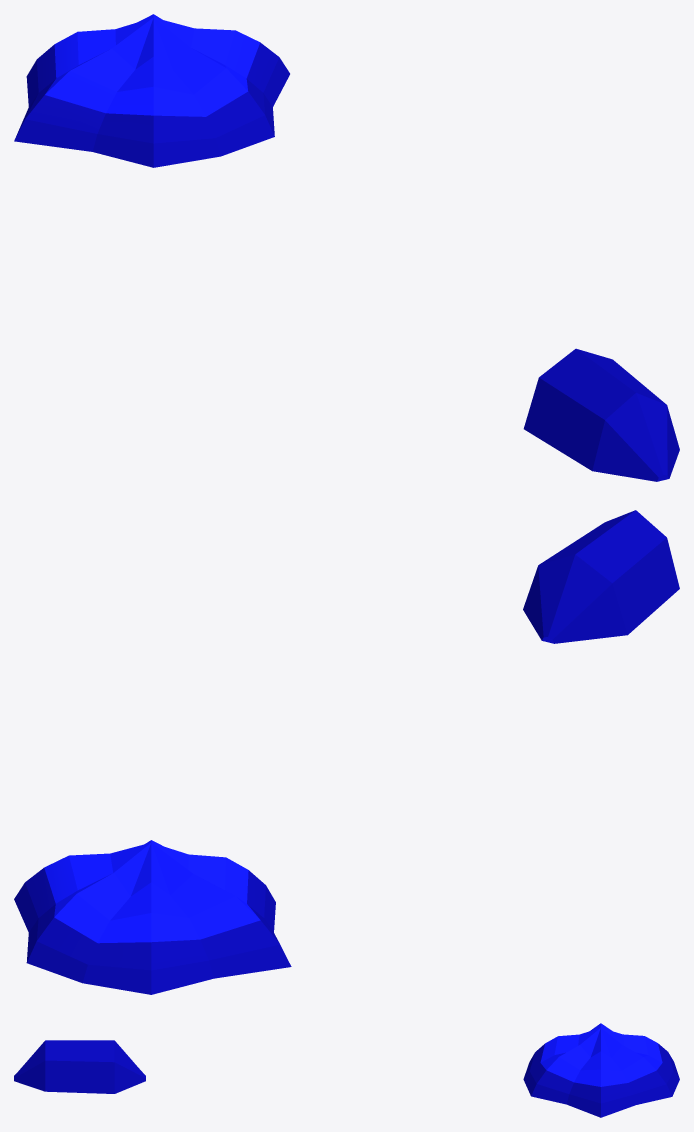
File: shot_ice_154.glb
The picture shows the model from 3 angles, top to bottom: view 1: azimuth 30°, elevation 25°; view 2: azimuth 150°, elevation 25°; view 3: azimuth 270°, elevation 25°; orthographic projection. The views are drawn at different scales.
Visible parts, largest first — view 1: shot_ice_154_cap, shot_ice_154_trail; view 2: shot_ice_154_cap, shot_ice_154_trail; view 3: shot_ice_154_cap, shot_ice_154_trail.
Part boxes in pixels (box(x1,y1,x2,y2)): shot_ice_154_cap: box(14, 14, 289, 167); shot_ice_154_trail: box(523, 348, 679, 481); shot_ice_154_cap: box(14, 840, 291, 994); shot_ice_154_trail: box(523, 510, 679, 643); shot_ice_154_cap: box(523, 1023, 679, 1117); shot_ice_154_trail: box(14, 1040, 145, 1093).
Bounding box in the file's own units: 2.65 × 0.822 × 9.59.
